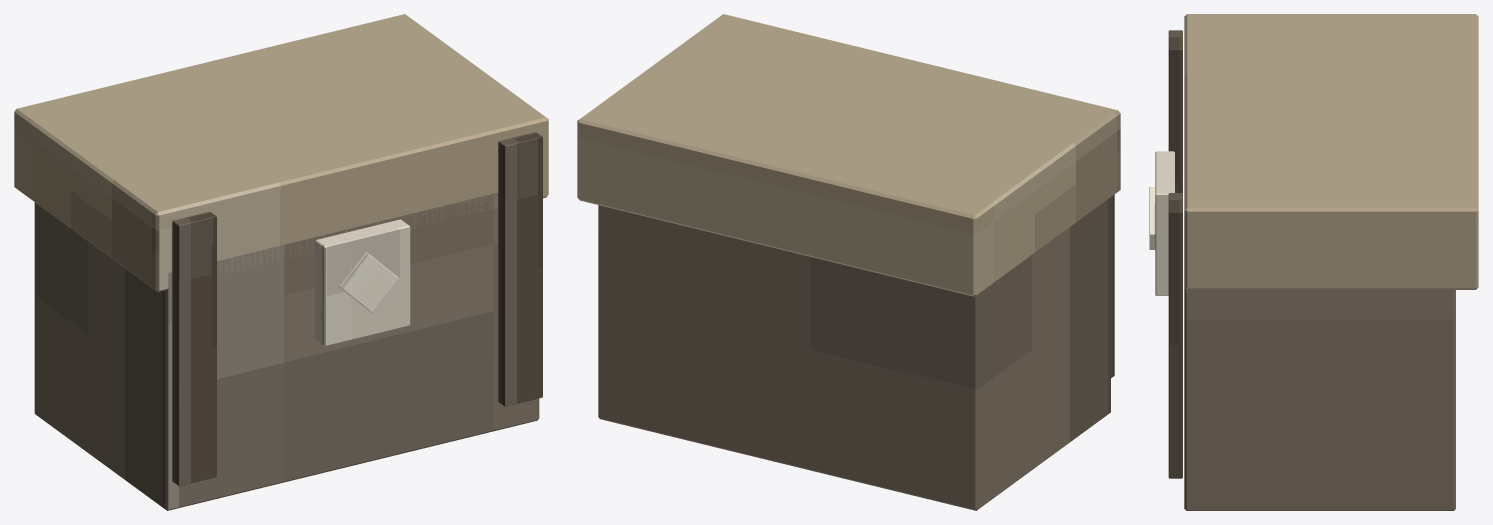
File: toy_chest_ivory.glb
The picture shows the model from 3 angles, left to right: view 1: azimuth 30°, elevation 25°; view 2: azimuth 150°, elevation 25°; view 3: azimuth 270°, elevation 25°; orthographic projection. The views are drawn at different scales.
Visible parts, largest first — view 1: ChestBody, ChestLid, ChestBand_L, ChestBand_R, ChestLatch, ChestHeart; view 2: ChestBody, ChestLid, ChestBand_L; view 3: ChestLid, ChestBody, ChestBand_R, ChestLatch, ChestBand_L, ChestHeart.
Part boxes in pixels (x1,y1,x2,y2): ChestBody: (34,192,539,510); ChestLid: (14,14,548,292); ChestBand_L: (172,211,216,486); ChestBand_R: (498,132,542,406); ChestLatch: (315,219,410,346); ChestHeart: (339,252,398,312); ChestBody: (598,197,1110,510); ChestLid: (577,14,1120,296); ChestBand_L: (1111,194,1114,377); ChestLid: (1184,14,1478,289); ChestBody: (1184,287,1455,510); ChestBand_R: (1168,193,1182,478); ChestLatch: (1155,151,1174,295); ChestBand_L: (1168,30,1182,193); ChestHeart: (1149,187,1155,249).
Bounding box in the file's own units: 0.82 × 0.6 × 0.582.
Materials: 1 (1 with a texture image).
